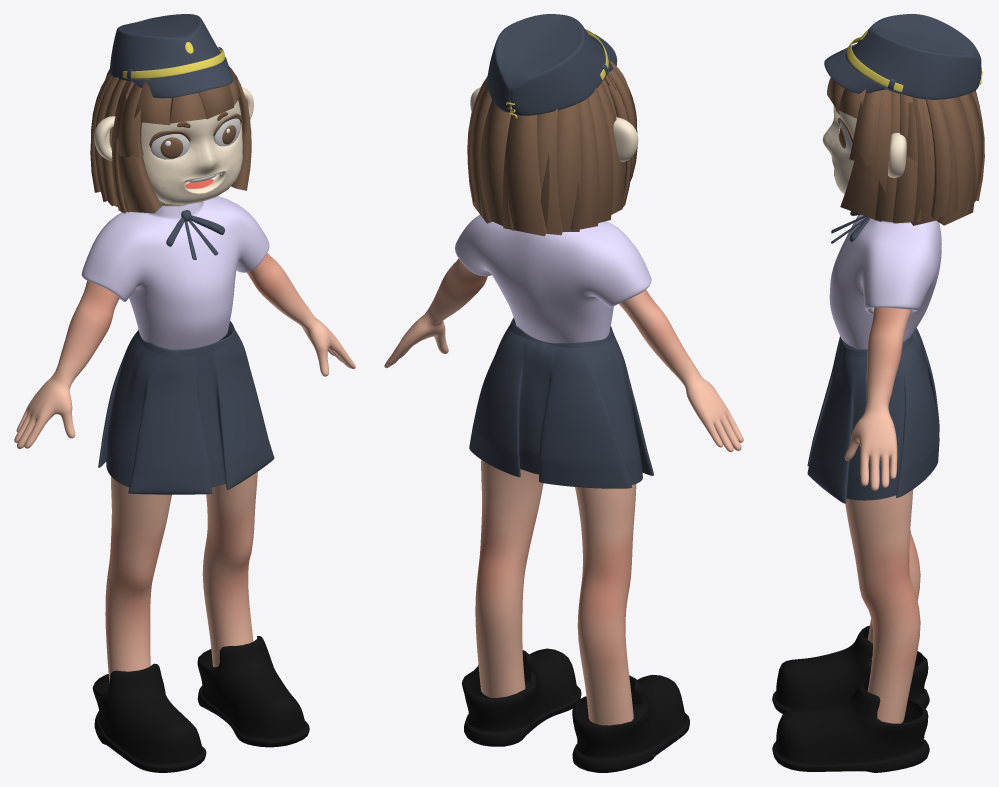
Rendered from staff.fbx.
3 renders of one model, left to right at view 1: azimuth 30°, elevation 25°; view 2: azimuth 150°, elevation 25°; view 3: azimuth 270°, elevation 25°, orthographic. The views are drawn at different scales.
Parts seen in each view (by area): view 1: 裙子, 衣服, 腿, 鞋子, 贝塞尔曲线.008, 手, 人頭, 帽子, 帽沿, 蝴蝶結, 帽子配件, 眼珠 (+1 smaller); view 2: 腿, 裙子, 贝塞尔曲线.008, 衣服, 鞋子, 帽子, 手, 右耳; view 3: 贝塞尔曲线.008, 鞋子, 裙子, 腿, 衣服, 帽子, 手, 人頭, 帽沿, 左耳, 帽子配件, 蝴蝶結.
Boxes of the visible parts, <box> form: 裙子: <box>98,321,274,494</box>; 衣服: <box>81,196,269,349</box>; 腿: <box>105,471,257,683</box>; 鞋子: <box>92,636,309,772</box>; 贝塞尔曲线.008: <box>90,66,251,213</box>; 手: <box>14,253,355,448</box>; 人頭: <box>141,100,242,206</box>; 帽子: <box>110,14,224,93</box>; 帽沿: <box>132,57,233,98</box>; 蝴蝶結: <box>166,210,224,259</box>; 帽子配件: <box>122,48,225,78</box>; 眼珠: <box>150,118,240,159</box>; 腿: <box>475,460,636,725</box>; 裙子: <box>469,317,653,488</box>; 贝塞尔曲线.008: <box>467,58,637,236</box>; 衣服: <box>455,215,651,343</box>; 鞋子: <box>462,648,689,772</box>; 帽子: <box>487,14,610,115</box>; 手: <box>384,258,743,451</box>; 右耳: <box>613,117,638,161</box>; 贝塞尔曲线.008: <box>827,77,984,225</box>; 鞋子: <box>772,625,929,772</box>; 裙子: <box>807,328,939,503</box>; 腿: <box>845,489,920,723</box>; 衣服: <box>829,215,941,349</box>; 帽子: <box>845,14,981,99</box>; 手: <box>844,307,911,490</box>; 人頭: <box>822,105,856,194</box>; 帽沿: <box>824,44,885,93</box>; 左耳: <box>888,132,906,177</box>; 帽子配件: <box>847,37,903,91</box>; 蝴蝶結: <box>831,211,870,243</box>.
Bounding box in the file's own units: 347 × 681 × 187.
